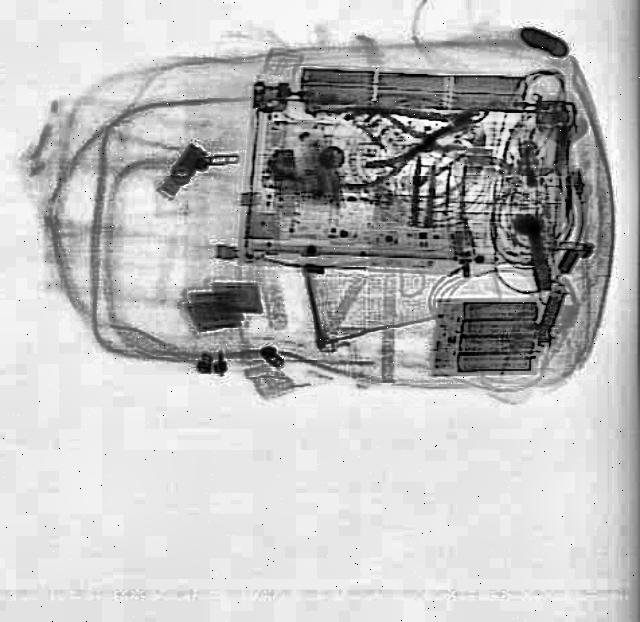Pliers: (353, 86, 492, 172), (344, 109, 452, 191)
